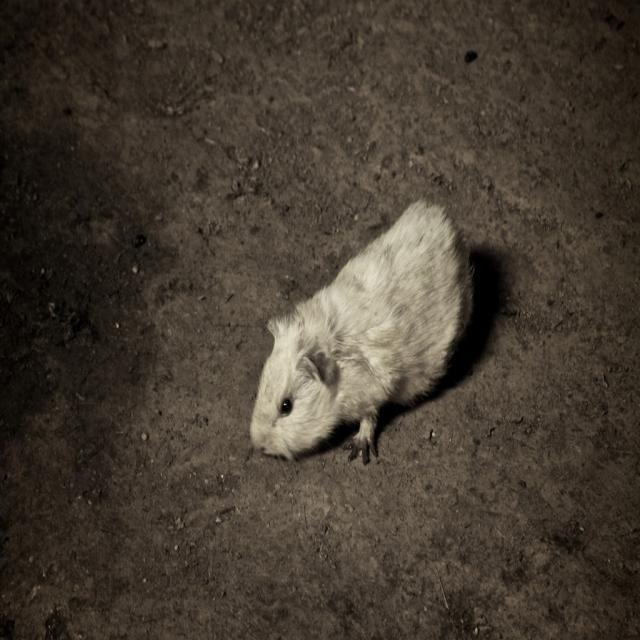rat: (243, 196, 478, 484)
